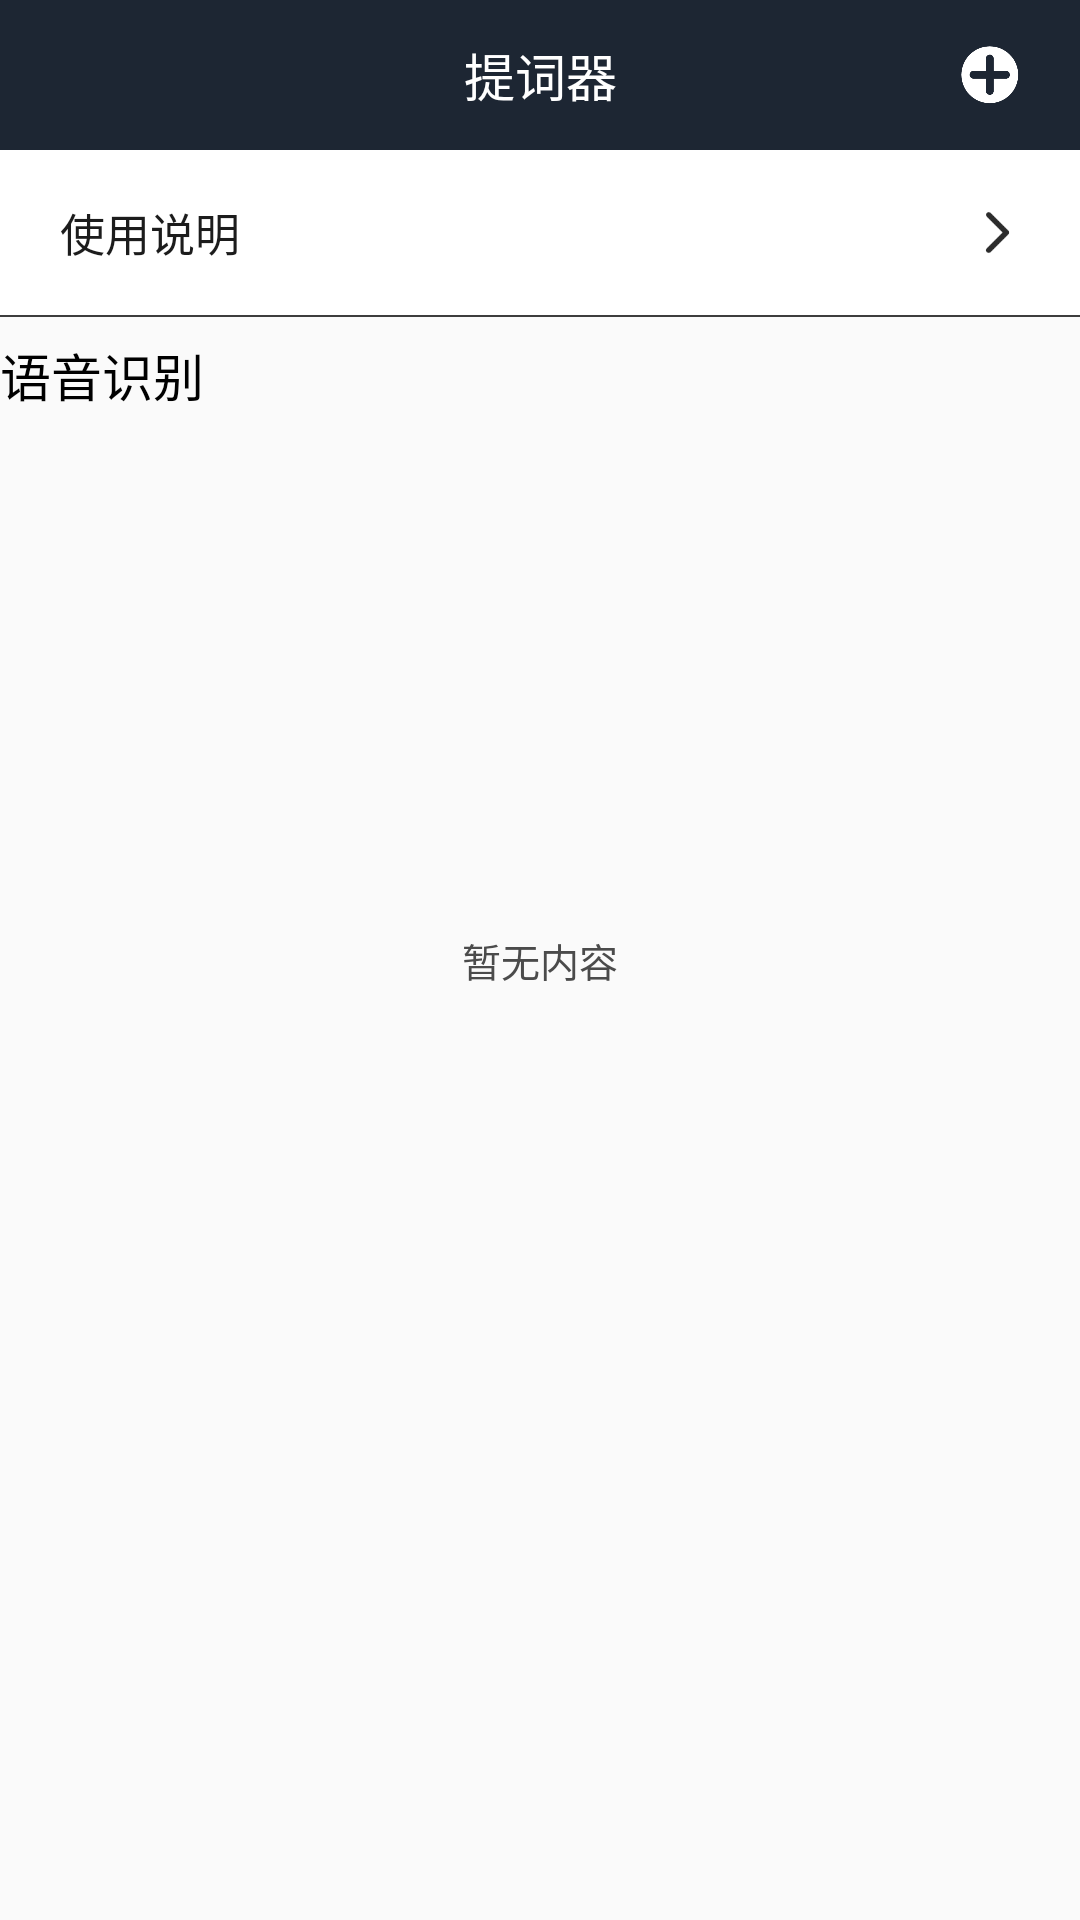

Icons on this 1080 × 1920 Android screen, each with the point to tap as [x,y]:
add: [989,74]
right: [997,232]
